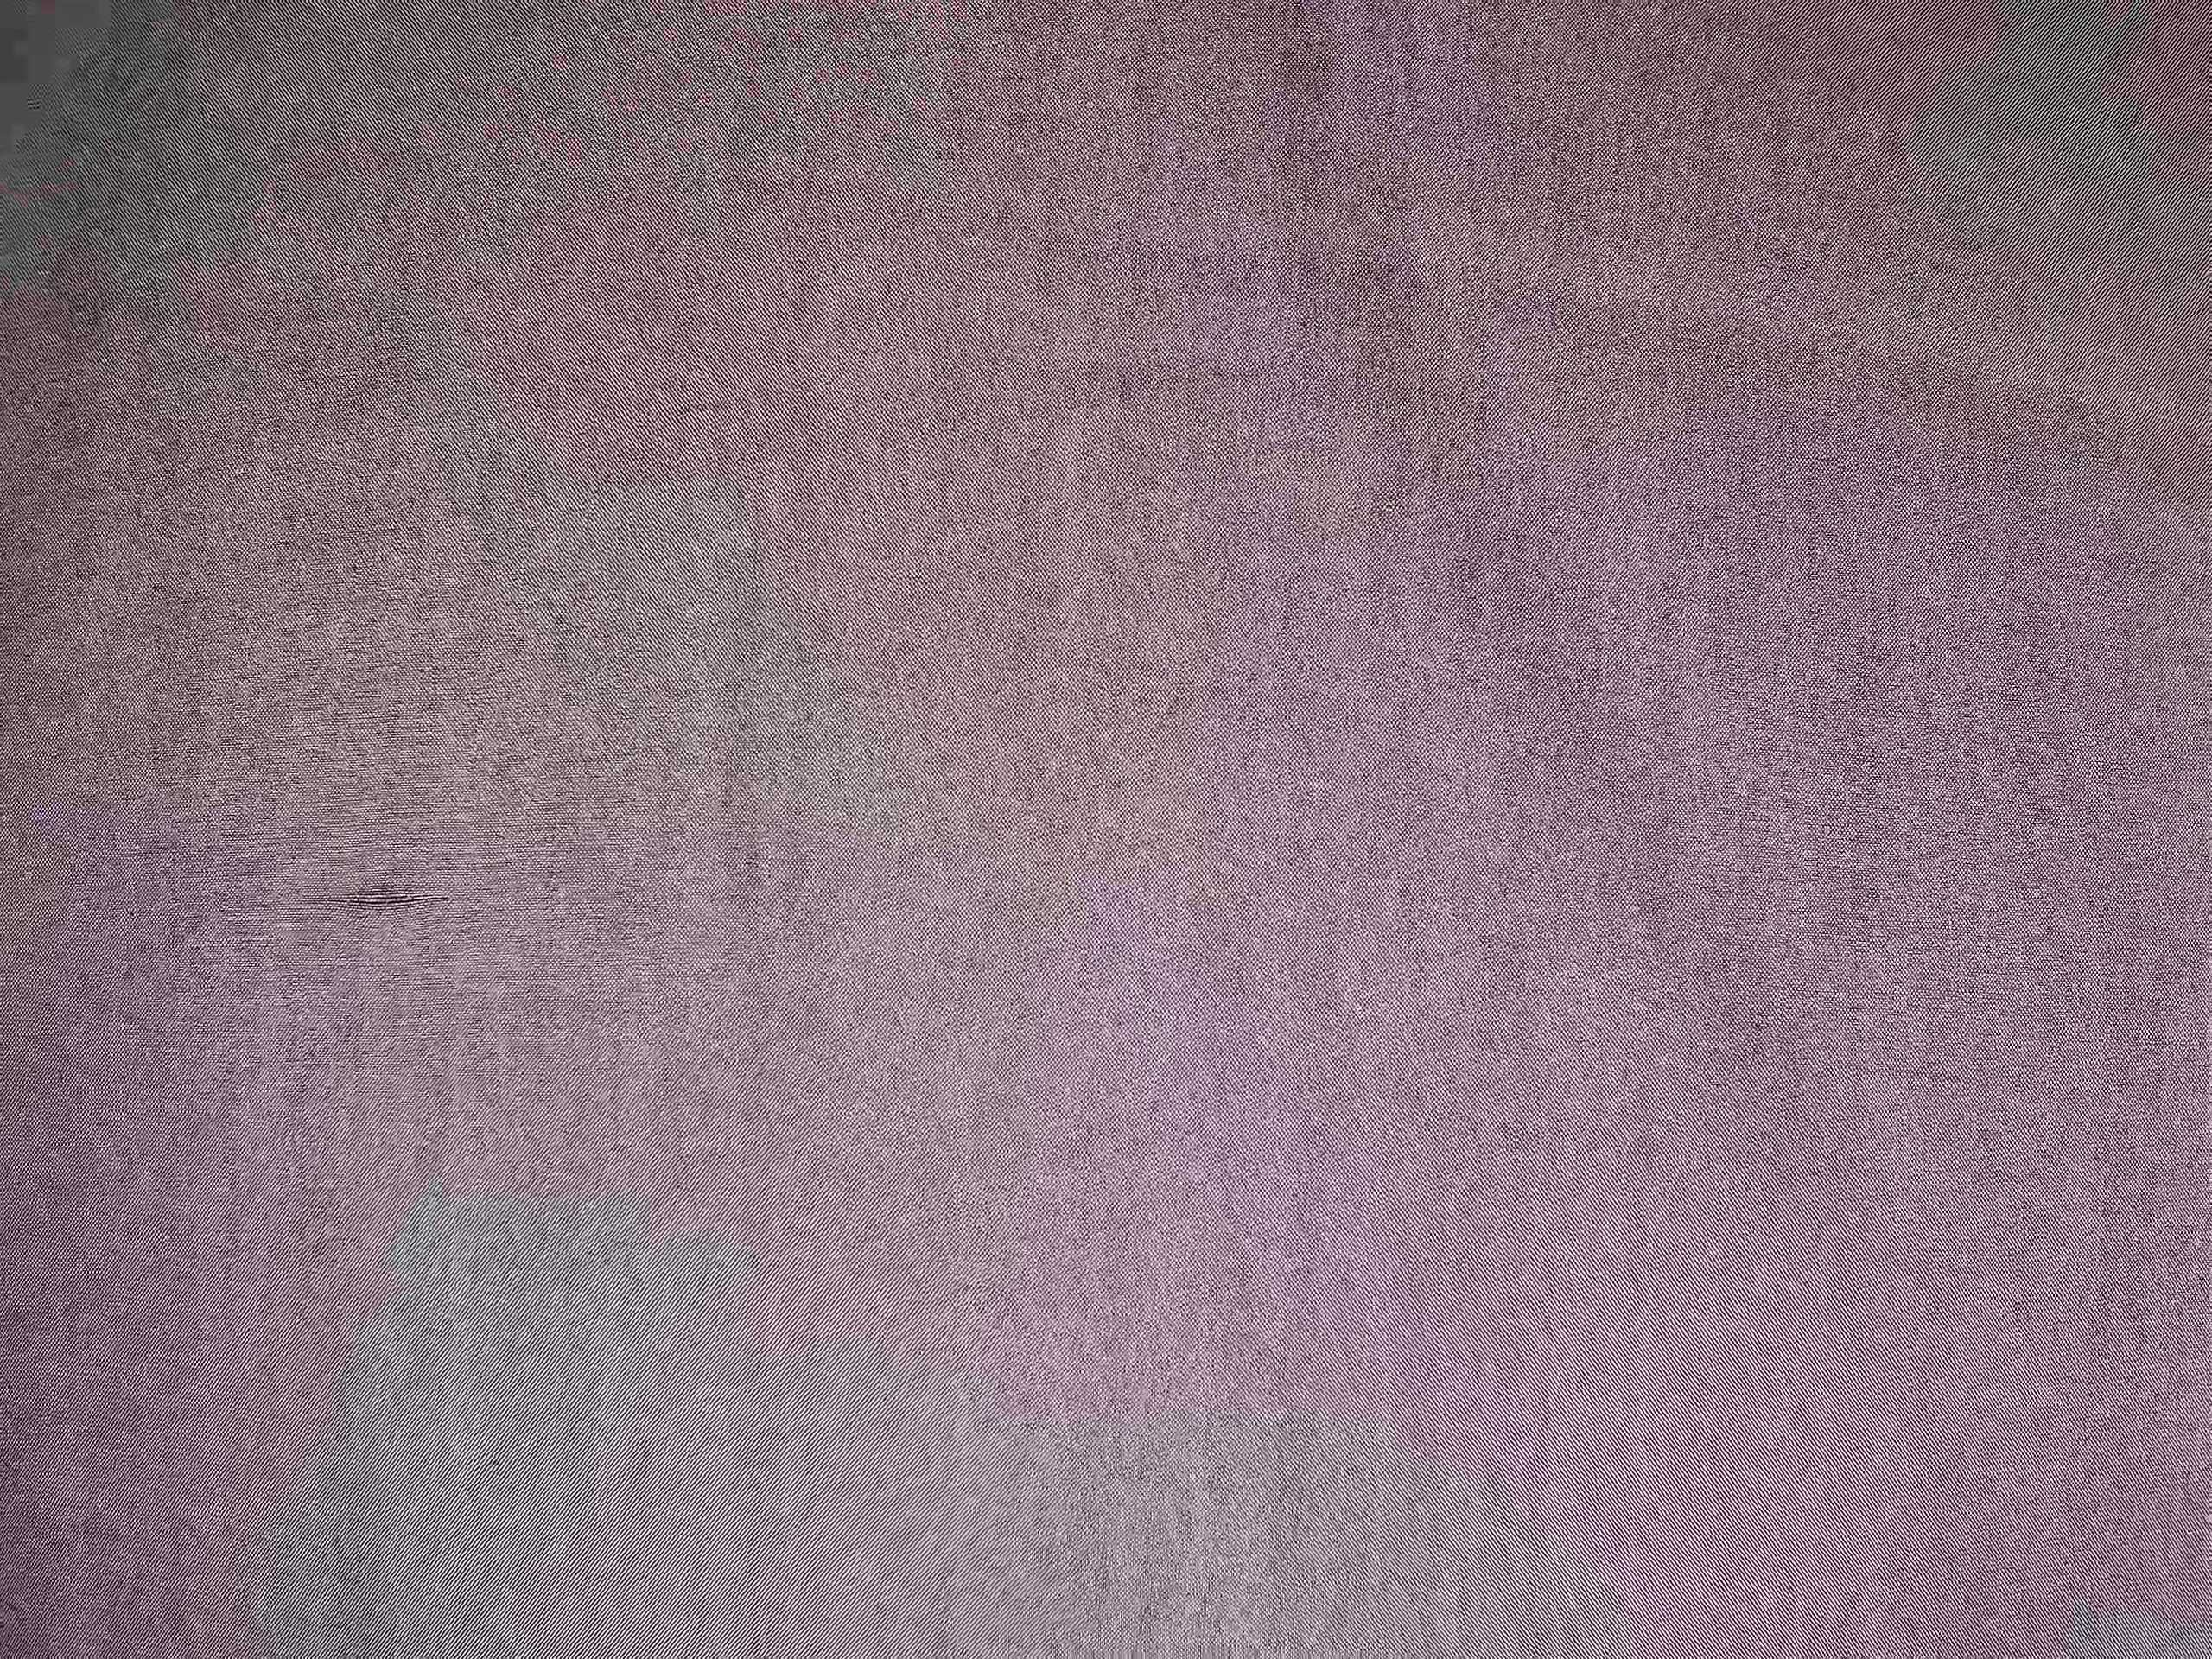thin-spinning: (280, 875, 463, 929)
